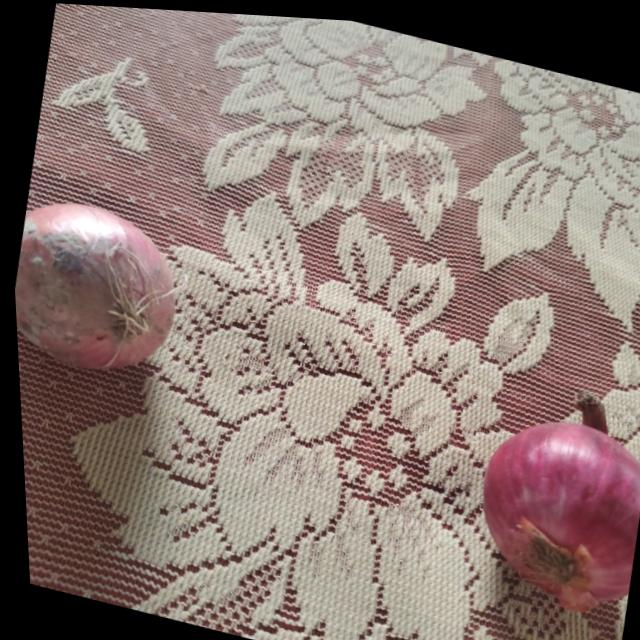onion: (8, 187, 197, 391), (460, 396, 640, 607)
